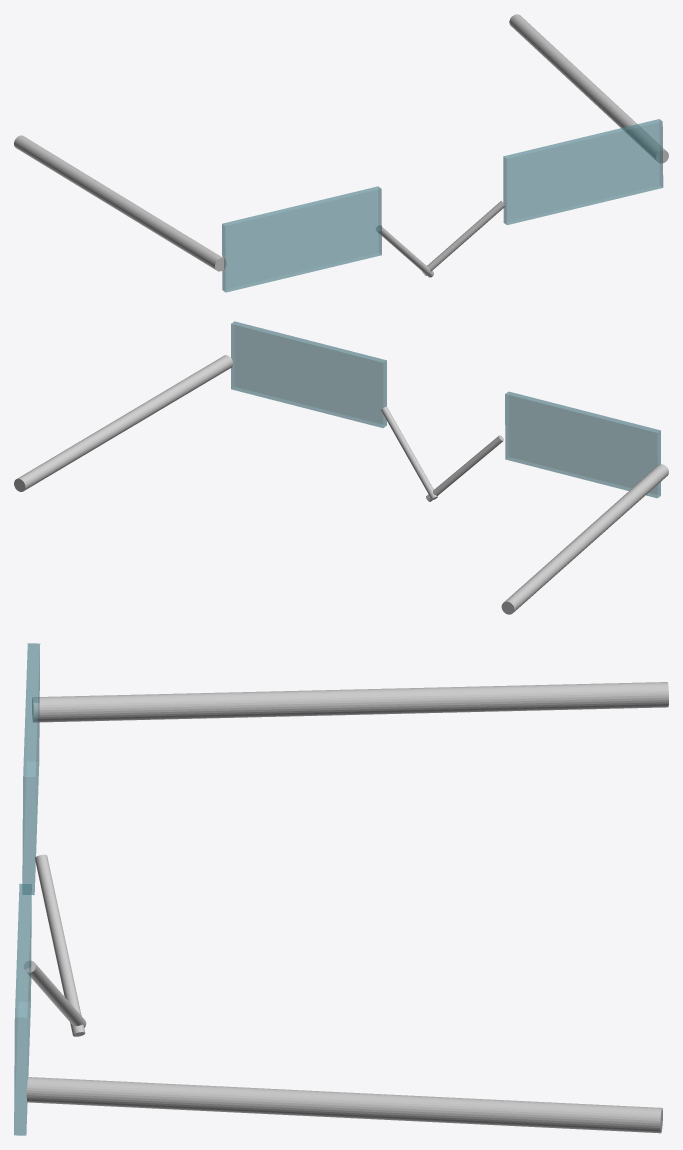
File: glass.obj
3 renders of one model, top to bottom at view 1: azimuth 30°, elevation 25°; view 2: azimuth 150°, elevation 25°; view 3: azimuth 270°, elevation 25°, orthographic. The views are drawn at different scales.
Visible parts, largest first — view 1: Cube.001_Cube.002, Cube.000_Cube.004, Cylinder.002, Cylinder.003, Cylinder.001, Cylinder; view 2: Cube.001_Cube.002, Cube.000_Cube.004, Cylinder.003, Cylinder.002, Cylinder.001, Cylinder; view 3: Cylinder.002, Cylinder.003, Cube.000_Cube.004, Cube.001_Cube.002, Cylinder, Cylinder.001.
Boxes of the visible parts, x1=… form: Cube.001_Cube.002: x1=503, y1=119, x2=663, y2=224; Cube.000_Cube.004: x1=222, y1=186, x2=381, y2=292; Cylinder.002: x1=14, y1=135, x2=226, y2=271; Cylinder.003: x1=509, y1=14, x2=668, y2=163; Cylinder.001: x1=422, y1=200, x2=505, y2=275; Cylinder: x1=376, y1=225, x2=433, y2=277; Cube.001_Cube.002: x1=231, y1=321, x2=386, y2=427; Cube.000_Cube.004: x1=505, y1=391, x2=660, y2=498; Cylinder.003: x1=14, y1=355, x2=233, y2=491; Cylinder.002: x1=501, y1=464, x2=668, y2=614; Cylinder.001: x1=381, y1=406, x2=437, y2=500; Cylinder: x1=426, y1=435, x2=503, y2=501; Cylinder.002: x1=32, y1=682, x2=668, y2=722; Cylinder.003: x1=26, y1=1077, x2=662, y2=1133; Cube.000_Cube.004: x1=22, y1=643, x2=39, y2=894; Cube.001_Cube.002: x1=14, y1=884, x2=31, y2=1135; Cylinder: x1=35, y1=854, x2=85, y2=1036; Cylinder.001: x1=24, y1=960, x2=86, y2=1027.
Size of the model in its own units: 16.35 by 3.58 by 10.28.
